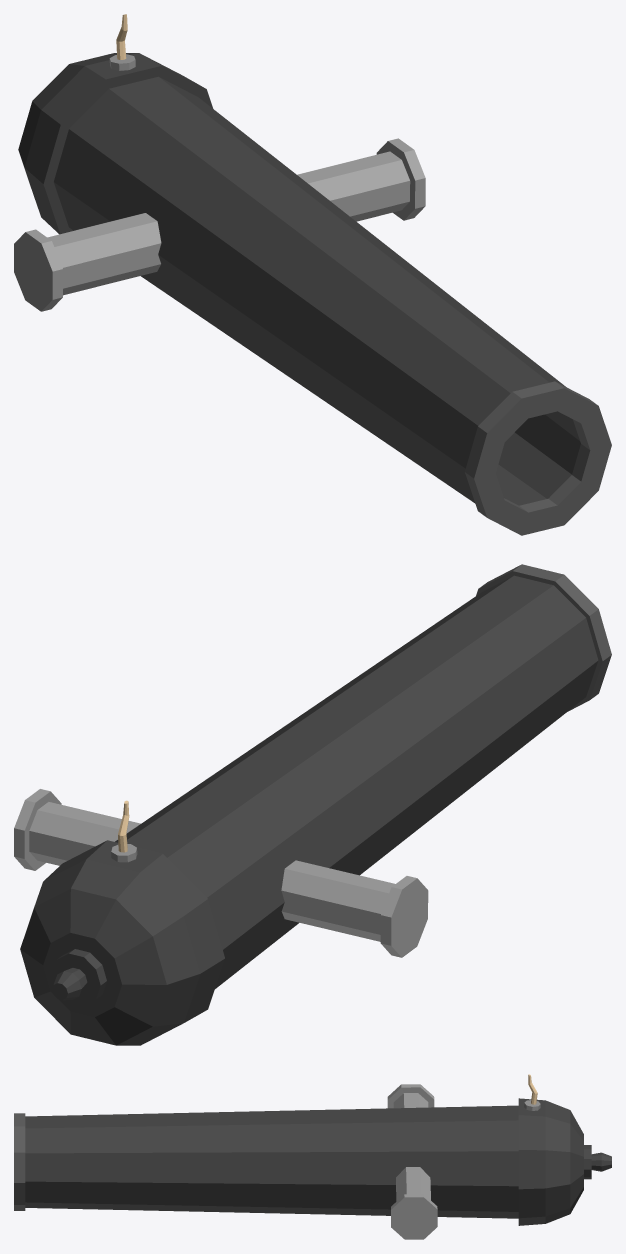
Rendered from cannon.muzzle.004.fbx.
3 views of the same model, one above another, from view 1: azimuth 30°, elevation 25°; view 2: azimuth 150°, elevation 25°; view 3: azimuth 270°, elevation 25° (orthographic). The views are drawn at different scales.
Parts seen in each view (by area): view 1: cannon.muzzle.004; view 2: cannon.muzzle.004; view 3: cannon.muzzle.004.
Boxes of the visible parts, box(x1,y1,x2,y2) form: cannon.muzzle.004: box(14, 14, 611, 535); cannon.muzzle.004: box(14, 564, 611, 1045); cannon.muzzle.004: box(14, 1074, 611, 1239).
Size of the model in its own units: 1.2 by 0.7048 by 2.67.
